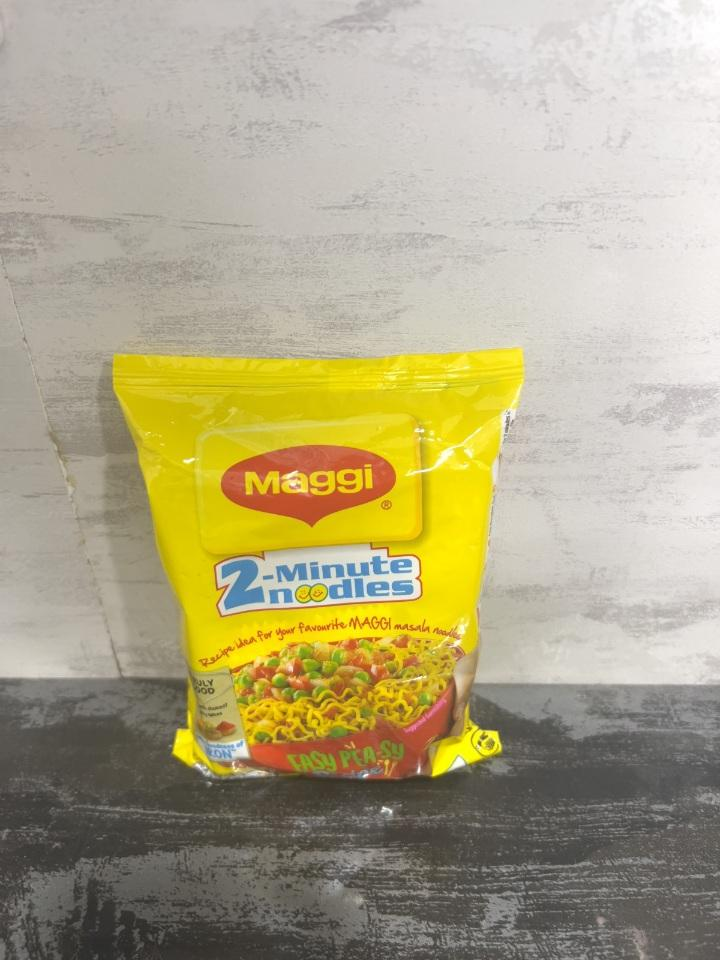Maggi: (117, 353, 527, 779)
